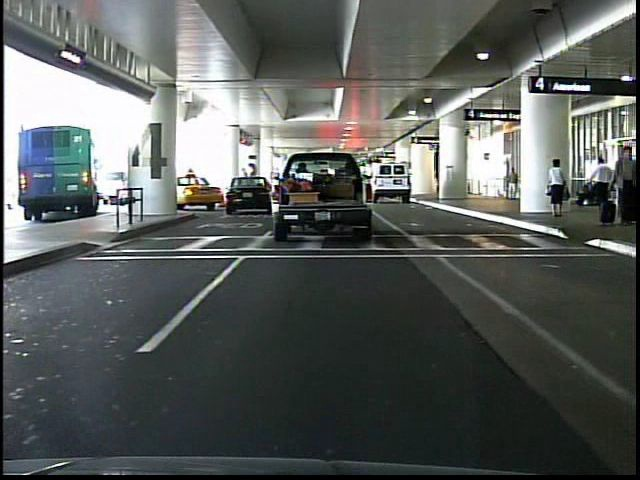person: (607, 145, 637, 230), (544, 156, 570, 218), (589, 154, 613, 218), (503, 163, 521, 206)
